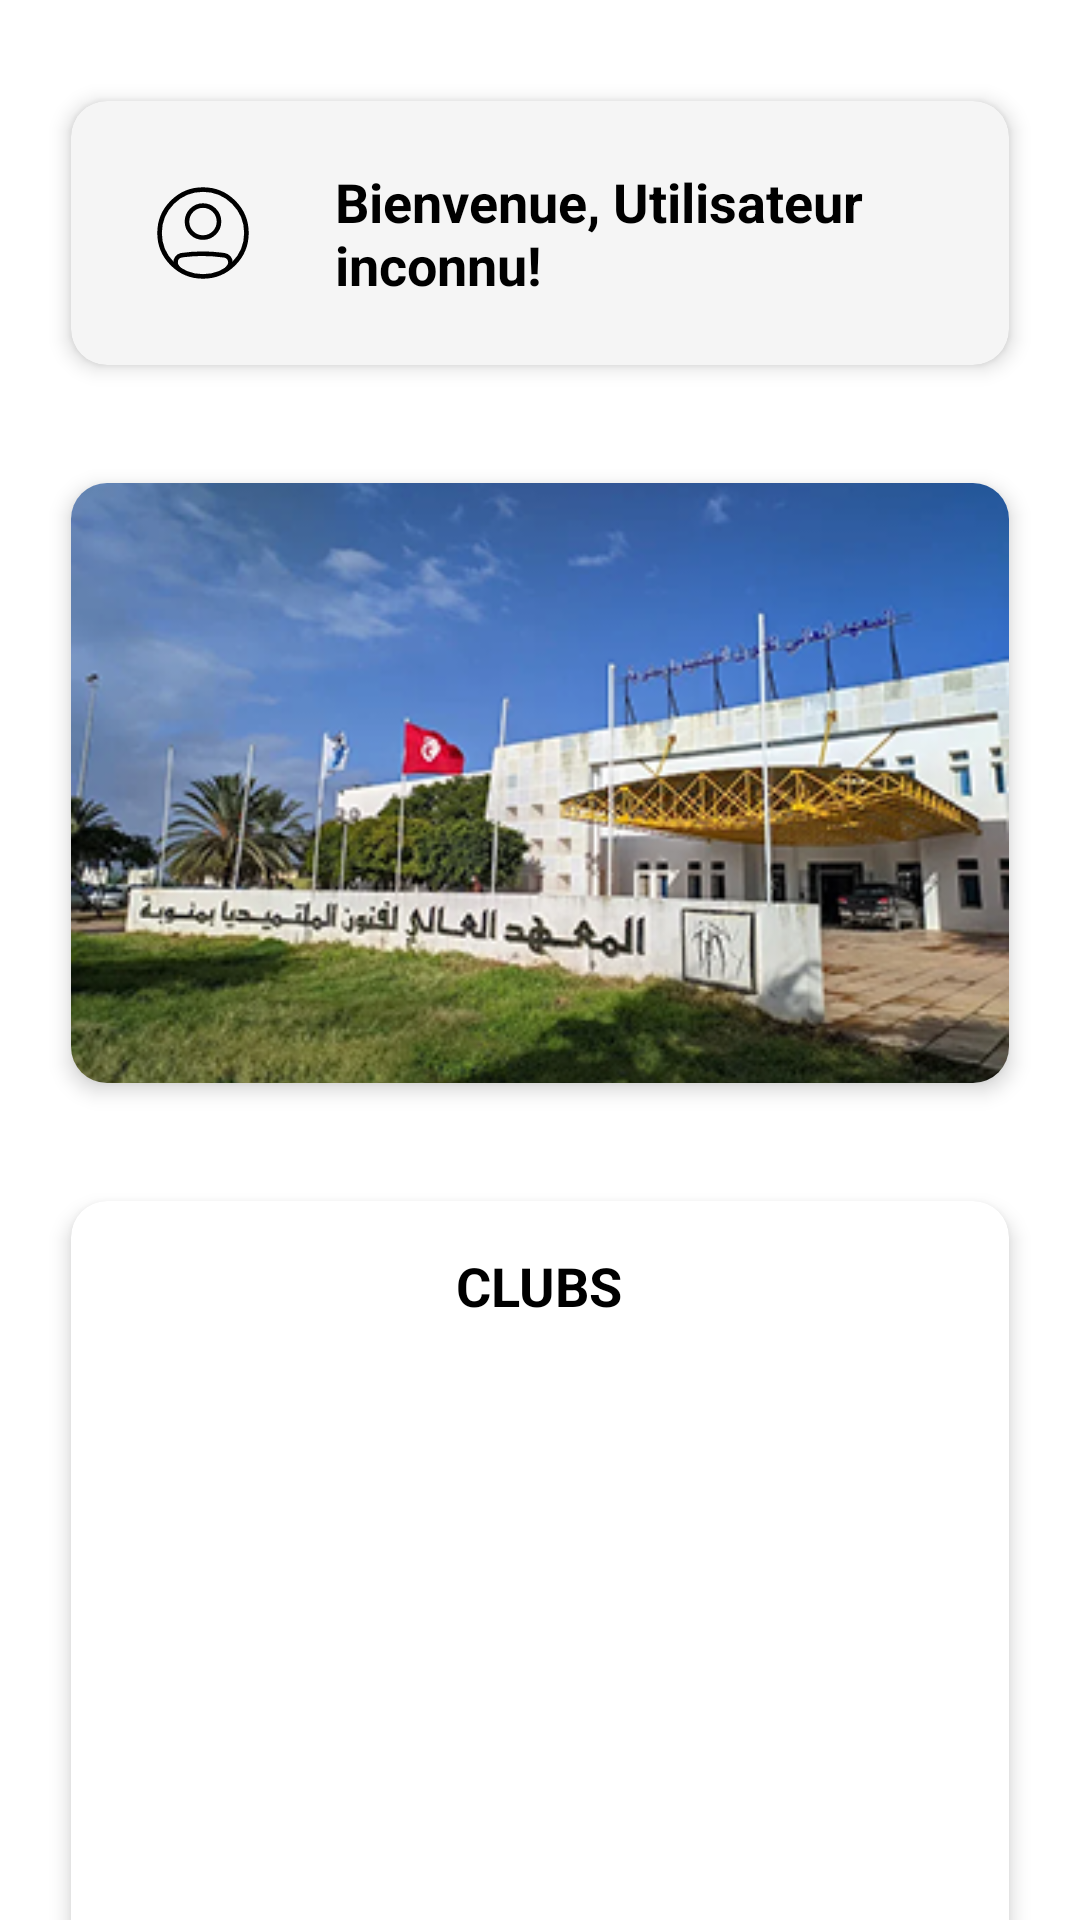

Icons on this 1080w x 1920h Android screen, each with the point to tap as (x,y):
Icône du profil utilisateur: (203,233)
